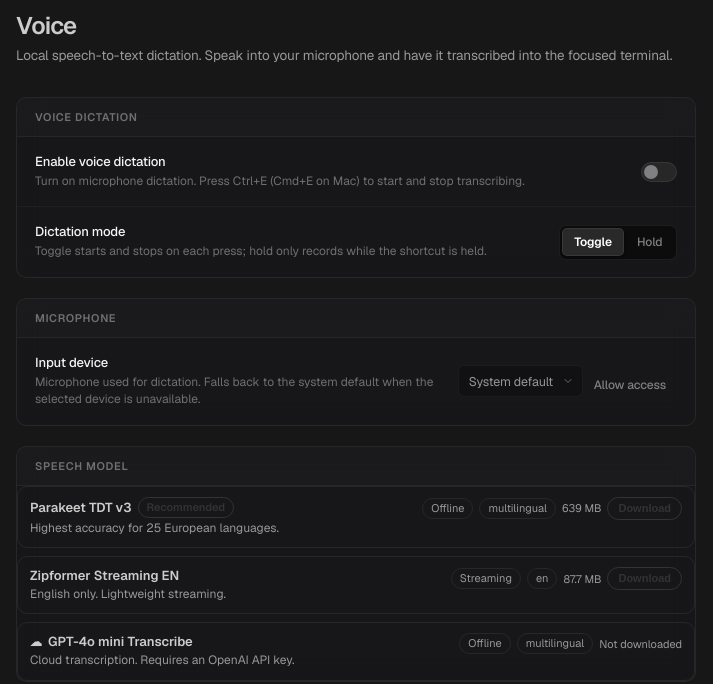
VoiceSettingsPane › downloads a model and shows the terminal ready state
Click the button with aria-label "download zipformer streaming en" at (645, 578), box [607, 567, 682, 590]
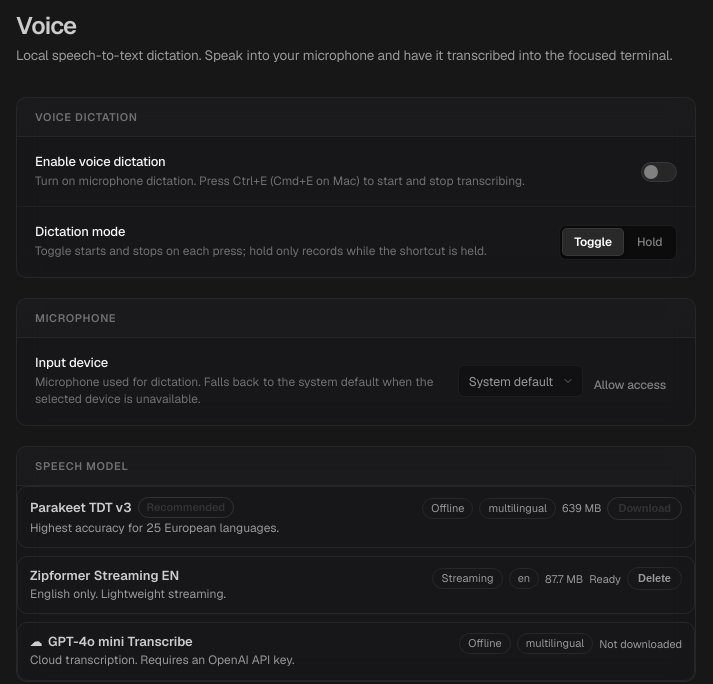
Result: the text "Ready" is shown at [589, 572, 621, 586]
